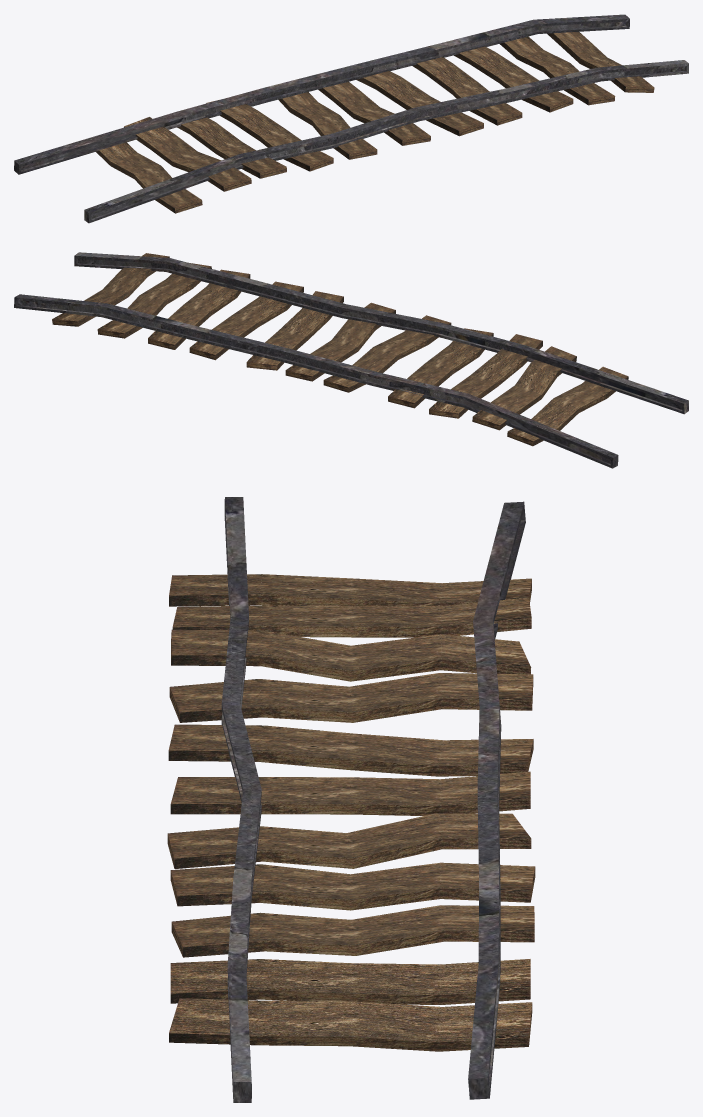
File: rails1.fbx
3 views of the same model, one above another, from view 1: azimuth 30°, elevation 25°; view 2: azimuth 150°, elevation 25°; view 3: azimuth 270°, elevation 25° (orthographic). The views are drawn at different scales.
Visible parts, largest first — view 1: planks, rails; view 2: planks, rails; view 3: planks, rails.
Boxes of the visible parts, bbox=[...] form: planks: bbox=[96, 31, 654, 213]; rails: bbox=[14, 14, 688, 223]; planks: bbox=[52, 253, 628, 446]; rails: bbox=[14, 252, 688, 468]; planks: bbox=[167, 574, 535, 1051]; rails: bbox=[221, 497, 525, 1102].
Size of the model in its own units: 12177 by 605 by 3218.
2 materials, 2 textured.
